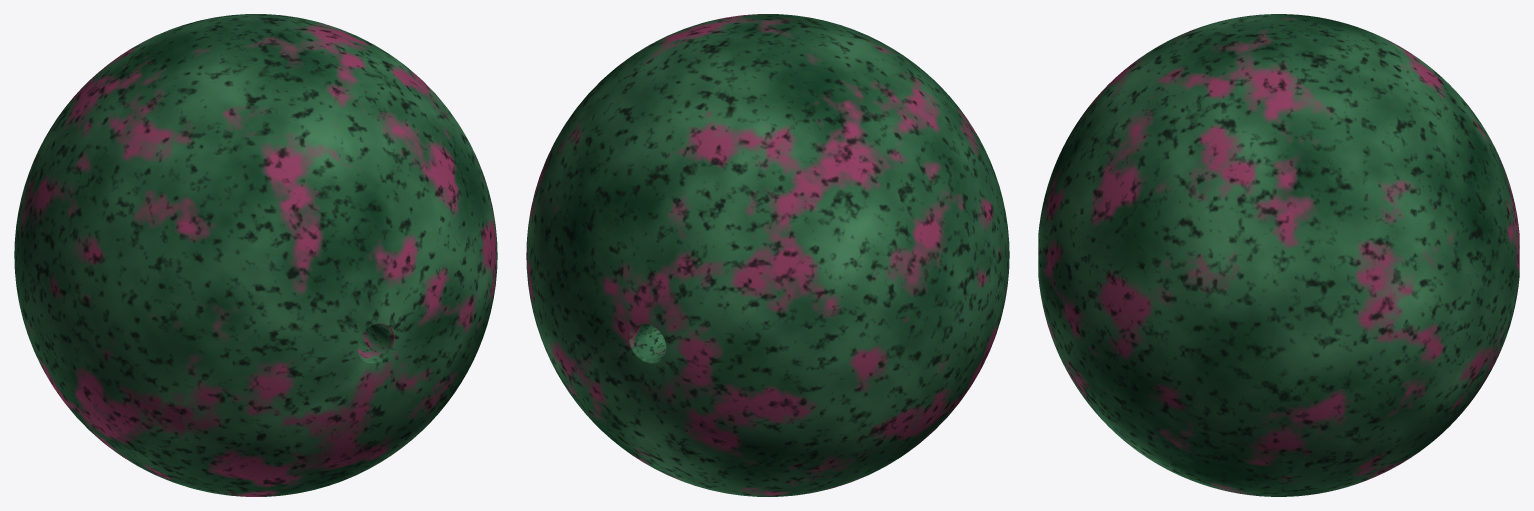
Rendered from ruby-zoisite-12mm.glb.
3 views of the same model, side by side, from view 1: azimuth 30°, elevation 25°; view 2: azimuth 150°, elevation 25°; view 3: azimuth 270°, elevation 25° (orthographic).
Visible parts, largest first — view 1: ruby-zoisite.001; view 2: ruby-zoisite.001; view 3: ruby-zoisite.001.
Boxes of the visible parts, x1=… form: ruby-zoisite.001: x1=14, y1=14, x2=497, y2=496; ruby-zoisite.001: x1=526, y1=14, x2=1009, y2=496; ruby-zoisite.001: x1=1038, y1=14, x2=1519, y2=496.
Bounding box in the file's own units: 0.012 × 0.012 × 0.012.
1 material, 1 textured.
